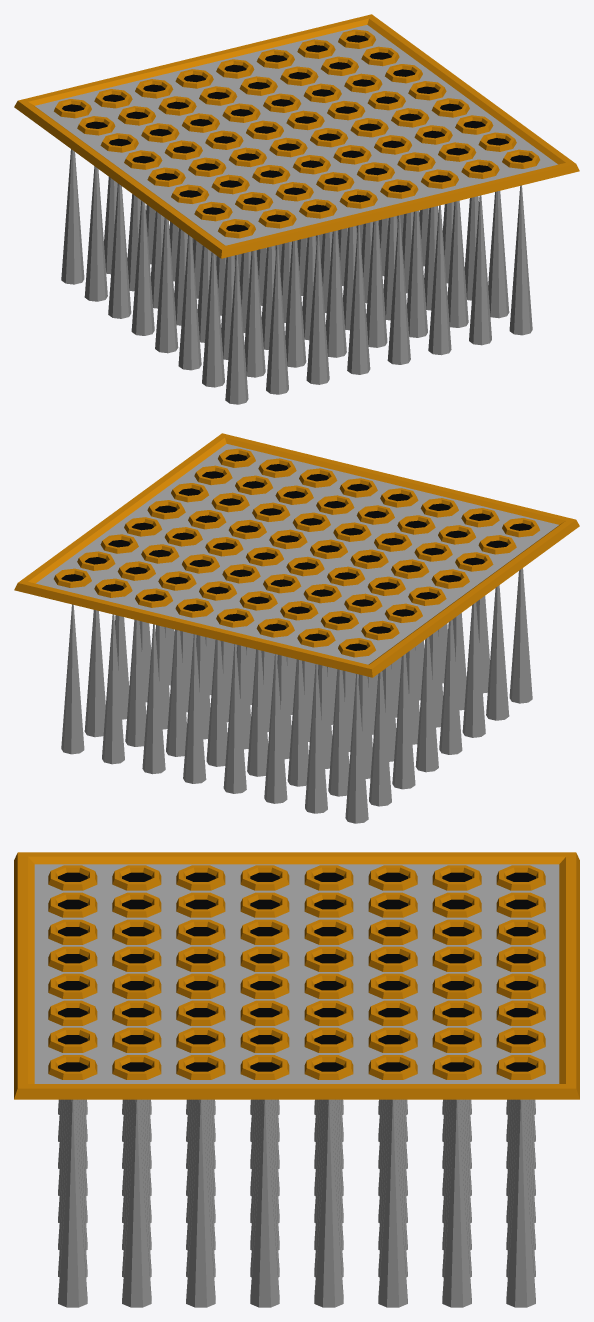
Rendered from Spikes.fbx.
The picture shows the model from 3 angles, top to bottom: view 1: azimuth 30°, elevation 25°; view 2: azimuth 150°, elevation 25°; view 3: azimuth 270°, elevation 25°; orthographic projection. The views are drawn at different scales.
Visible parts, largest first — view 1: Plane, Torus.001; view 2: Plane, Torus.001; view 3: Plane, Torus.001.
Boxes of the visible parts, x1=… form: Plane: x1=14, y1=14, x2=579, y2=258; Torus.001: x1=61, y1=149, x2=532, y2=404; Plane: x1=14, y1=433, x2=579, y2=677; Torus.001: x1=61, y1=568, x2=532, y2=823; Plane: x1=14, y1=852, x2=579, y2=1099; Torus.001: x1=58, y1=1099, x2=535, y2=1307.
Size of the model in its own units: 200 by 92.5 by 200.
